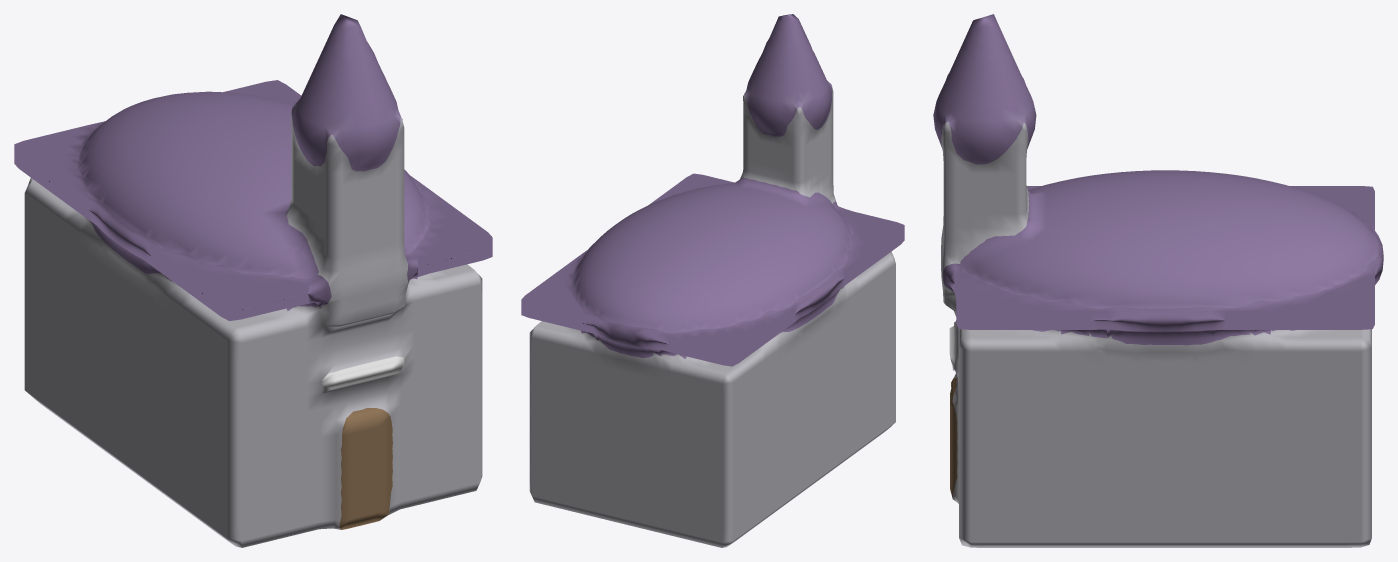
The model's file is chapel.glb.
3 renders of one model, left to right at view 1: azimuth 30°, elevation 25°; view 2: azimuth 150°, elevation 25°; view 3: azimuth 270°, elevation 25°, orthographic. The views are drawn at different scales.
Parts seen in each view (by area): view 1: chapel; view 2: chapel; view 3: chapel.
Part boxes in pixels (x1,y1,x2,y2): chapel: [14, 14, 492, 547]; chapel: [521, 14, 904, 547]; chapel: [933, 14, 1383, 547].
Size of the model in its own units: 118 by 205 by 174.
